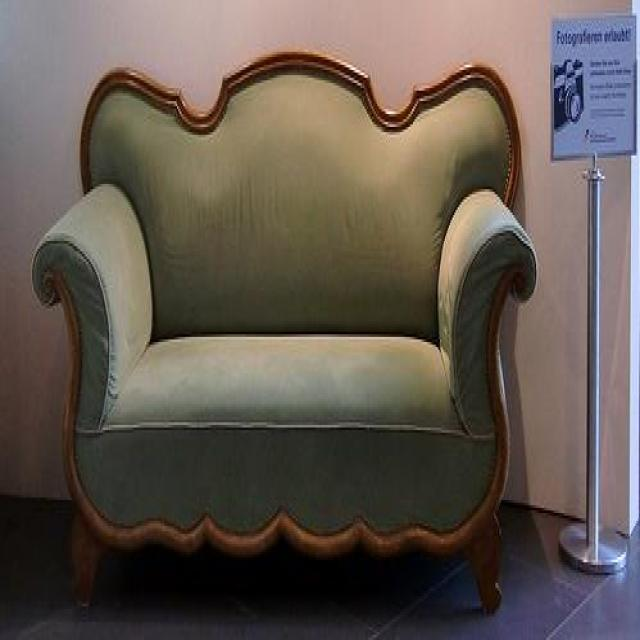sofa: (31, 47, 536, 614)
